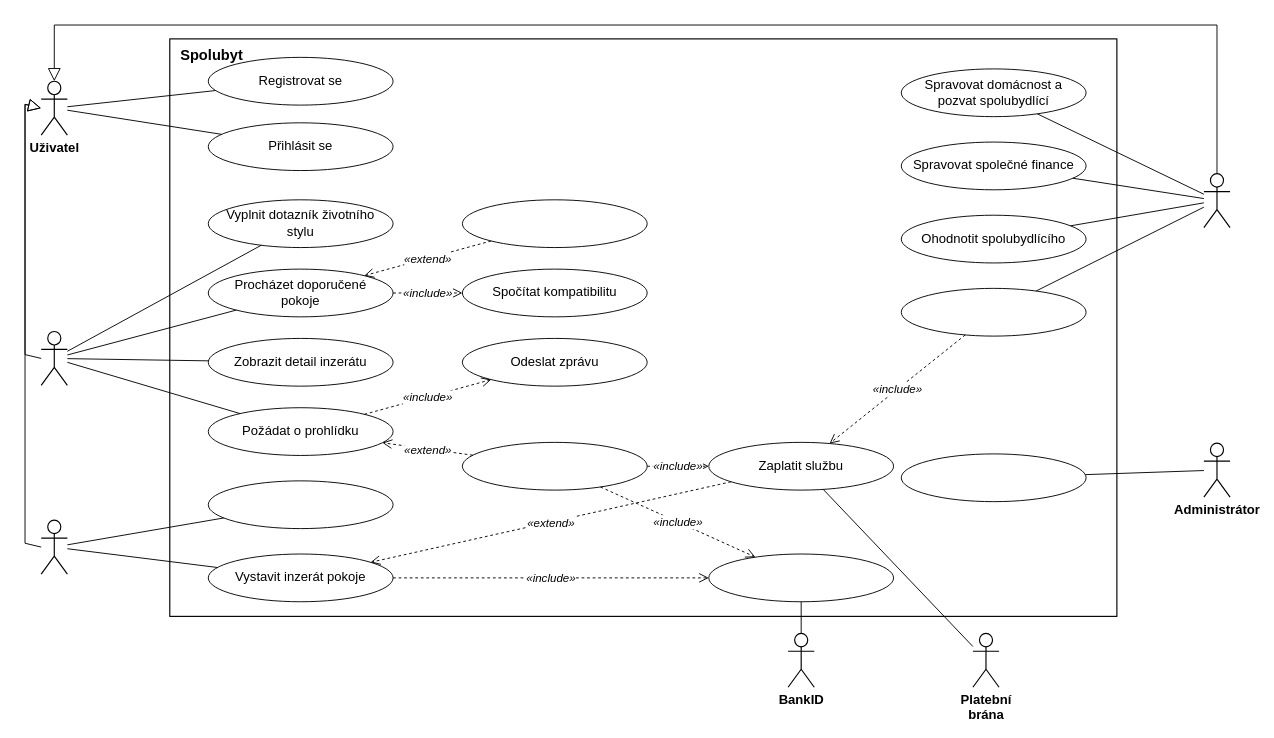
Some shapes in this 1274 by 738 pixel diagram are drawn without their labels. Each missing label, with the centre of its shape:
Aktivovat Premium domácnost: point (993, 312)
Aktivovat Premium hledání: point (554, 466)
Filtrovat podle lokality a dojezdu: point (554, 223)
Hledající: point (54, 358)
Moderovat inzeráty a profily: point (993, 477)
Nabízející: point (54, 546)
Ověřit identitu přes BankID: point (801, 577)
Vybrat zájemce a potvrdit prohlídku: point (300, 504)
Člen domácnosti: point (1216, 200)
